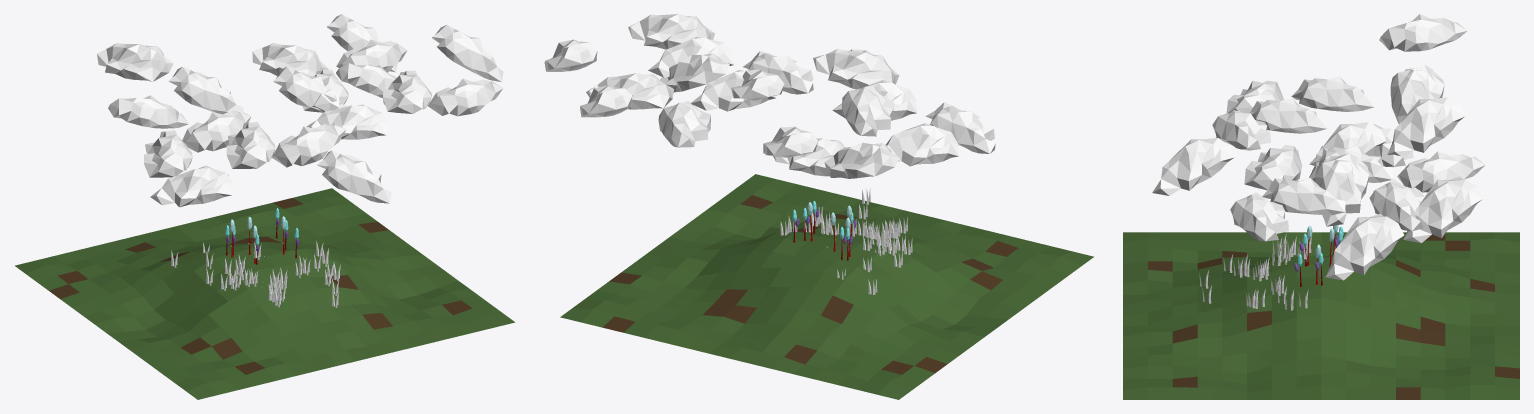
File: environment.gltf
3 renders of one model, left to right at view 1: azimuth 30°, elevation 25°; view 2: azimuth 150°, elevation 25°; view 3: azimuth 270°, elevation 25°, orthographic. The views are drawn at different scales.
Parts seen in each view (by area): view 1: Terrain 3, RG_Cloud-04 (1) (×7), RG_Cloud-04 (3) (×4), RG_Cloud-04 (×4), RG_Cloud-04 (2) (×4); view 2: Terrain 3, RG_Cloud-04 (1) (×6), RG_Cloud-04 (×4), RG_Cloud-04 (3) (×4), RG_Cloud-04 (2) (×4); view 3: Terrain 3, RG_Cloud-04 (1) (×7), RG_Cloud-04 (3) (×4), RG_Cloud-04 (×4), RG_Cloud-04 (2) (×4).
Boxes of the visible parts, x1,y1,x2,y2 form: Terrain 3: [15, 188, 515, 399]; RG_Cloud-04 (1) (×7): [108, 14, 503, 203]; RG_Cloud-04 (3) (×4): [97, 43, 388, 207]; RG_Cloud-04 (×4): [144, 69, 502, 177]; RG_Cloud-04 (2) (×4): [182, 39, 431, 168]; Terrain 3: [560, 174, 1093, 399]; RG_Cloud-04 (1) (×6): [544, 39, 899, 178]; RG_Cloud-04 (×4): [628, 14, 958, 166]; RG_Cloud-04 (3) (×4): [658, 51, 995, 153]; RG_Cloud-04 (2) (×4): [586, 37, 917, 176]; Terrain 3: [1123, 232, 1519, 399]; RG_Cloud-04 (1) (×7): [1152, 64, 1482, 280]; RG_Cloud-04 (3) (×4): [1226, 14, 1485, 192]; RG_Cloud-04 (×4): [1212, 76, 1392, 241]; RG_Cloud-04 (2) (×4): [1249, 98, 1424, 231].
Bounding box in the file's own units: 0.6366 × 0.3638 × 0.5.
4 materials, 2 textured.
